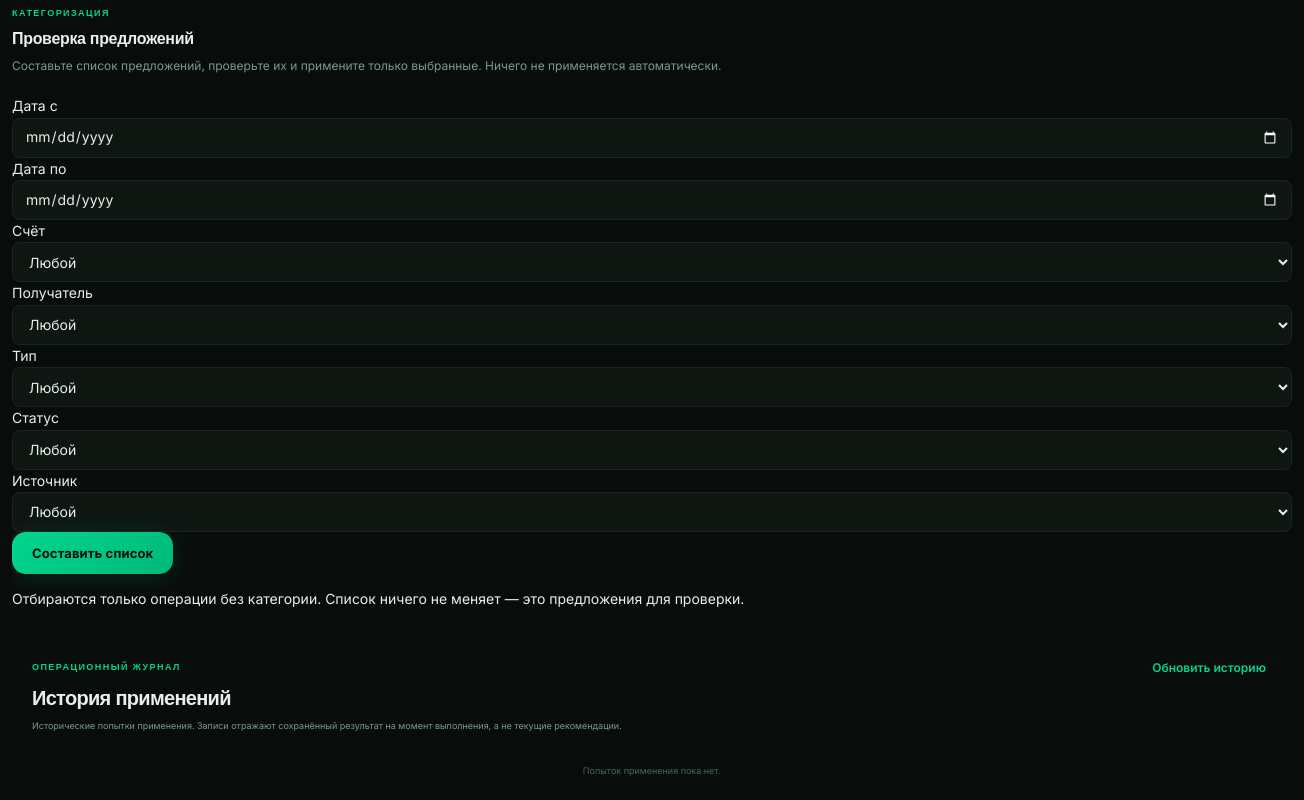
Test: a reclaimed preview offers creating a new one without disclosing that it existed
The image size is (1304, 800).
Submit the form
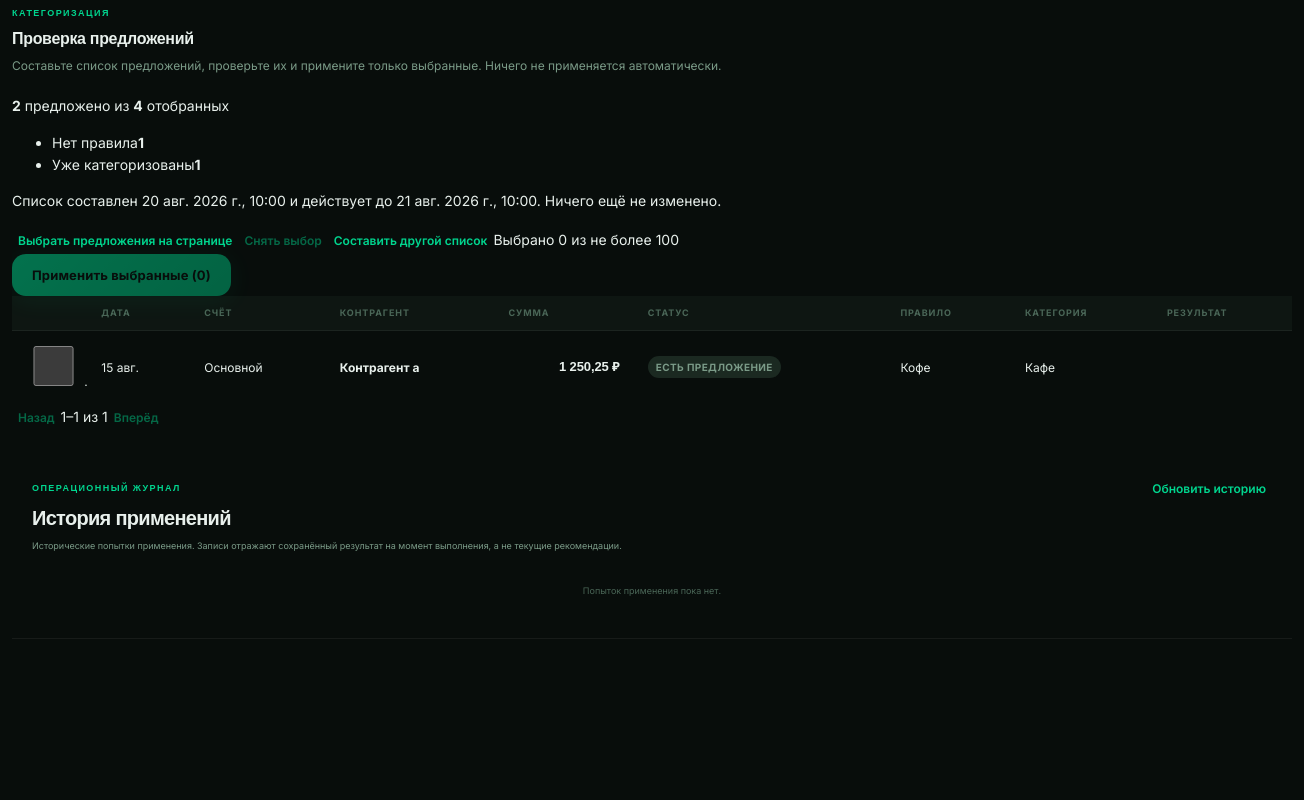
Click the checkbox named "Выбрать операцию Контрагент a".
click(54, 366)  # box [30,346,77,386]
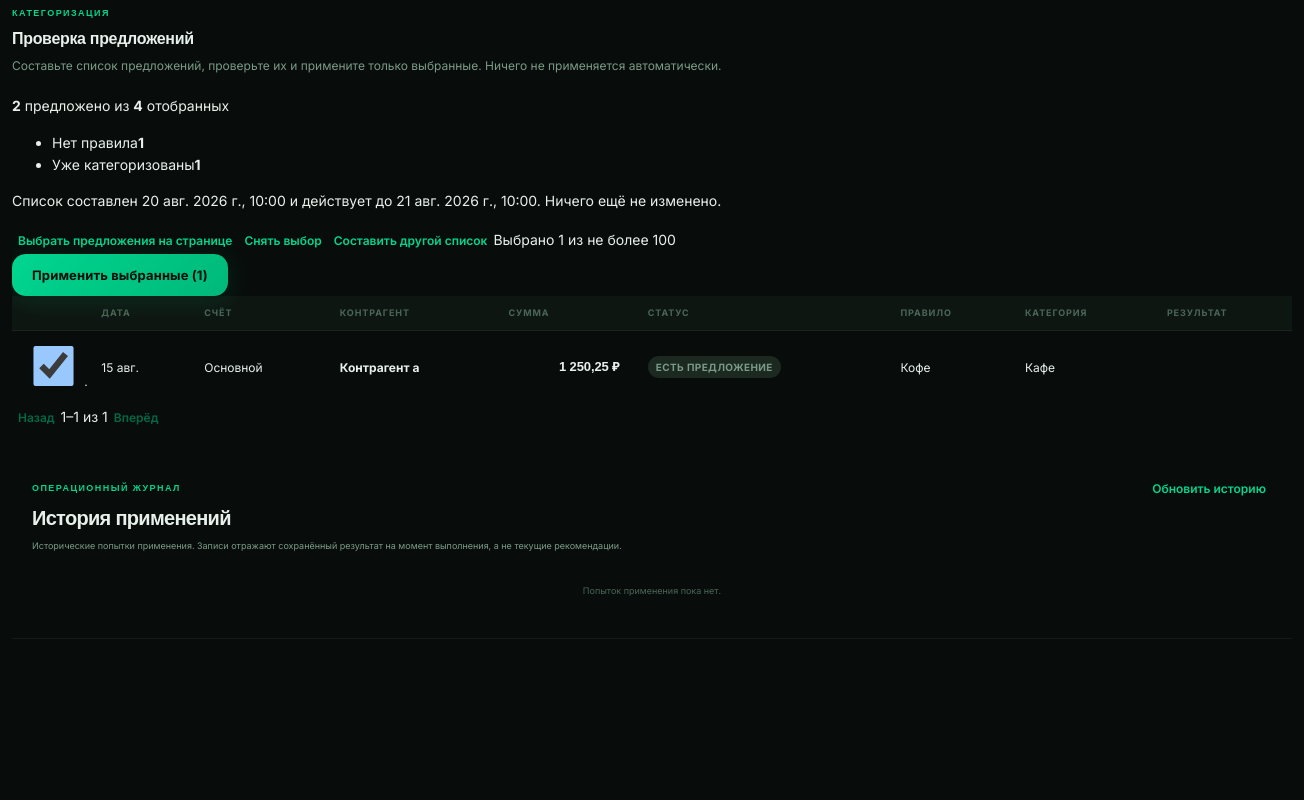
Click the button "Применить выбранные (1)".
click(120, 275)  # box [12,254,228,296]
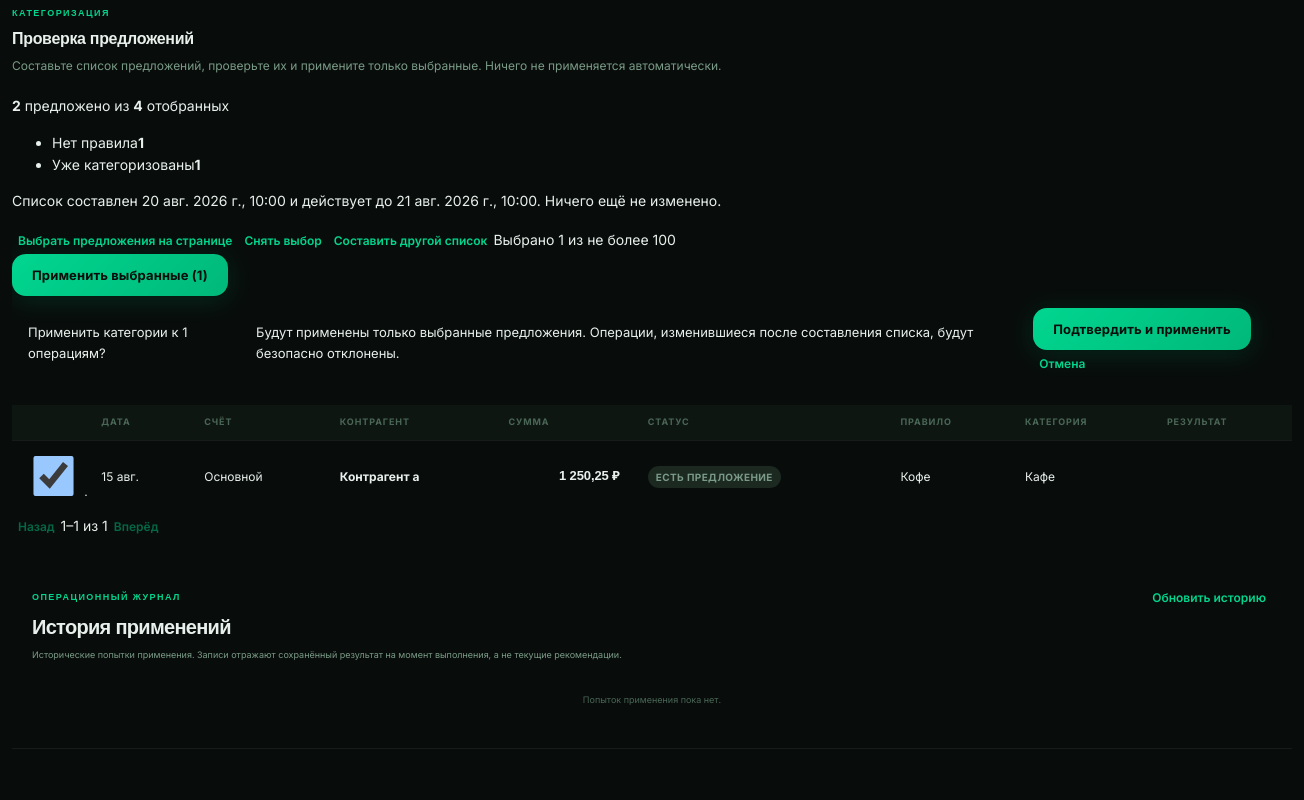
Click the button "Подтвердить и применить".
click(1142, 329)  # box [1033,308,1251,350]
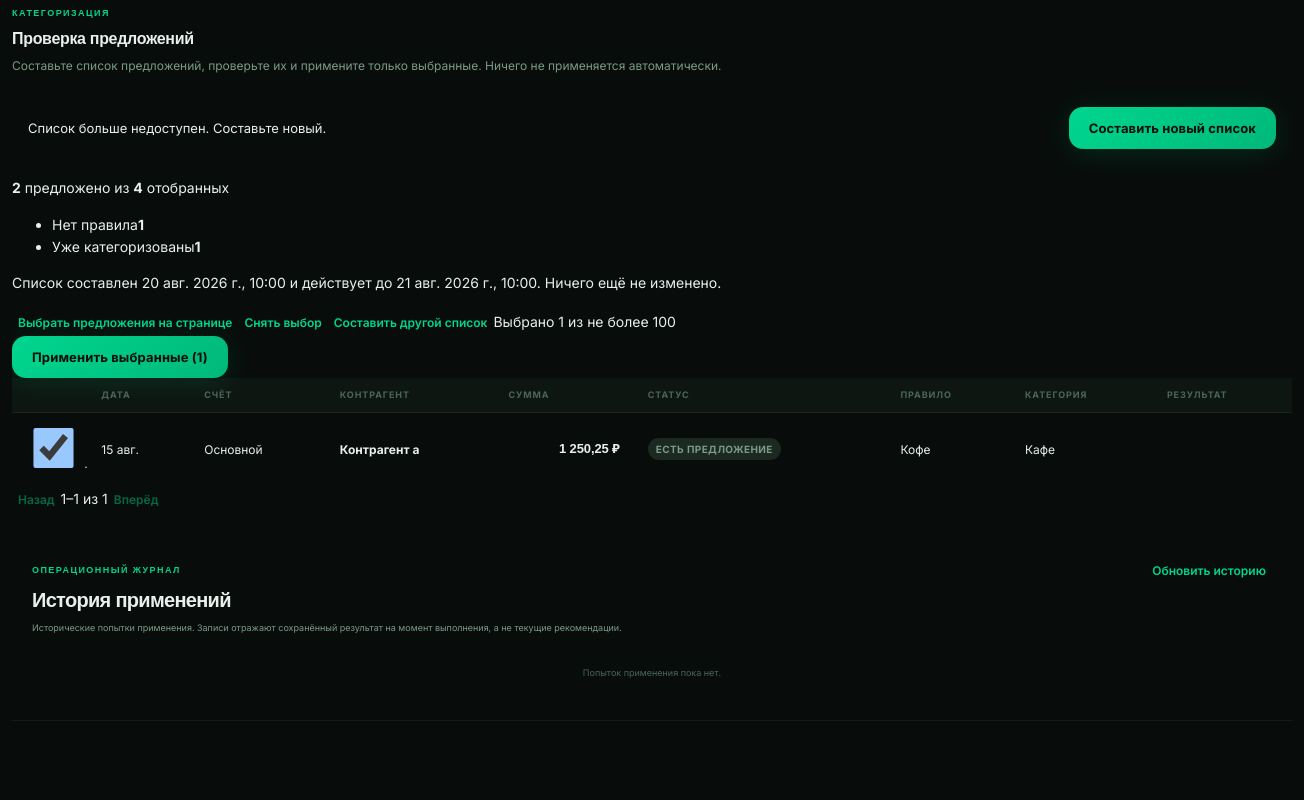
Check: the button "Составить новый список" is shown, box [1069,107,1276,149]
Check: the text "Список больше недоступен. Составьте новый." is shown, box [28,118,326,139]
